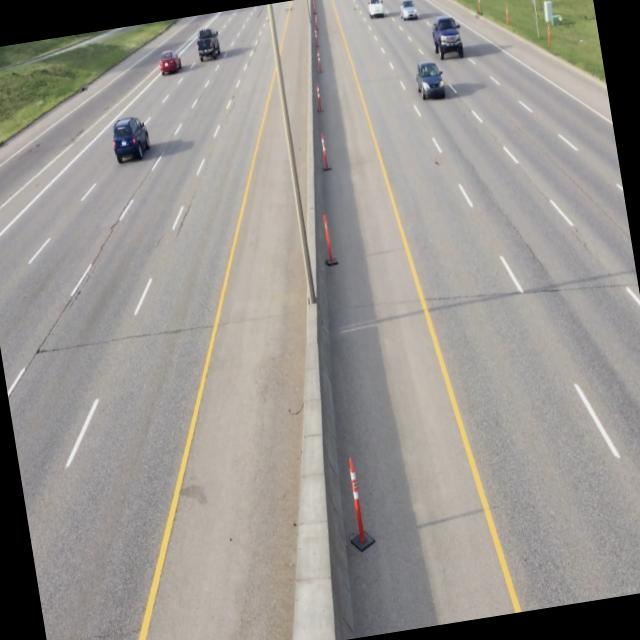Vehicle: (108, 113, 152, 166), (429, 15, 466, 62), (412, 57, 447, 102), (192, 22, 223, 64), (156, 48, 182, 80), (395, 0, 418, 24), (367, 0, 385, 19)
